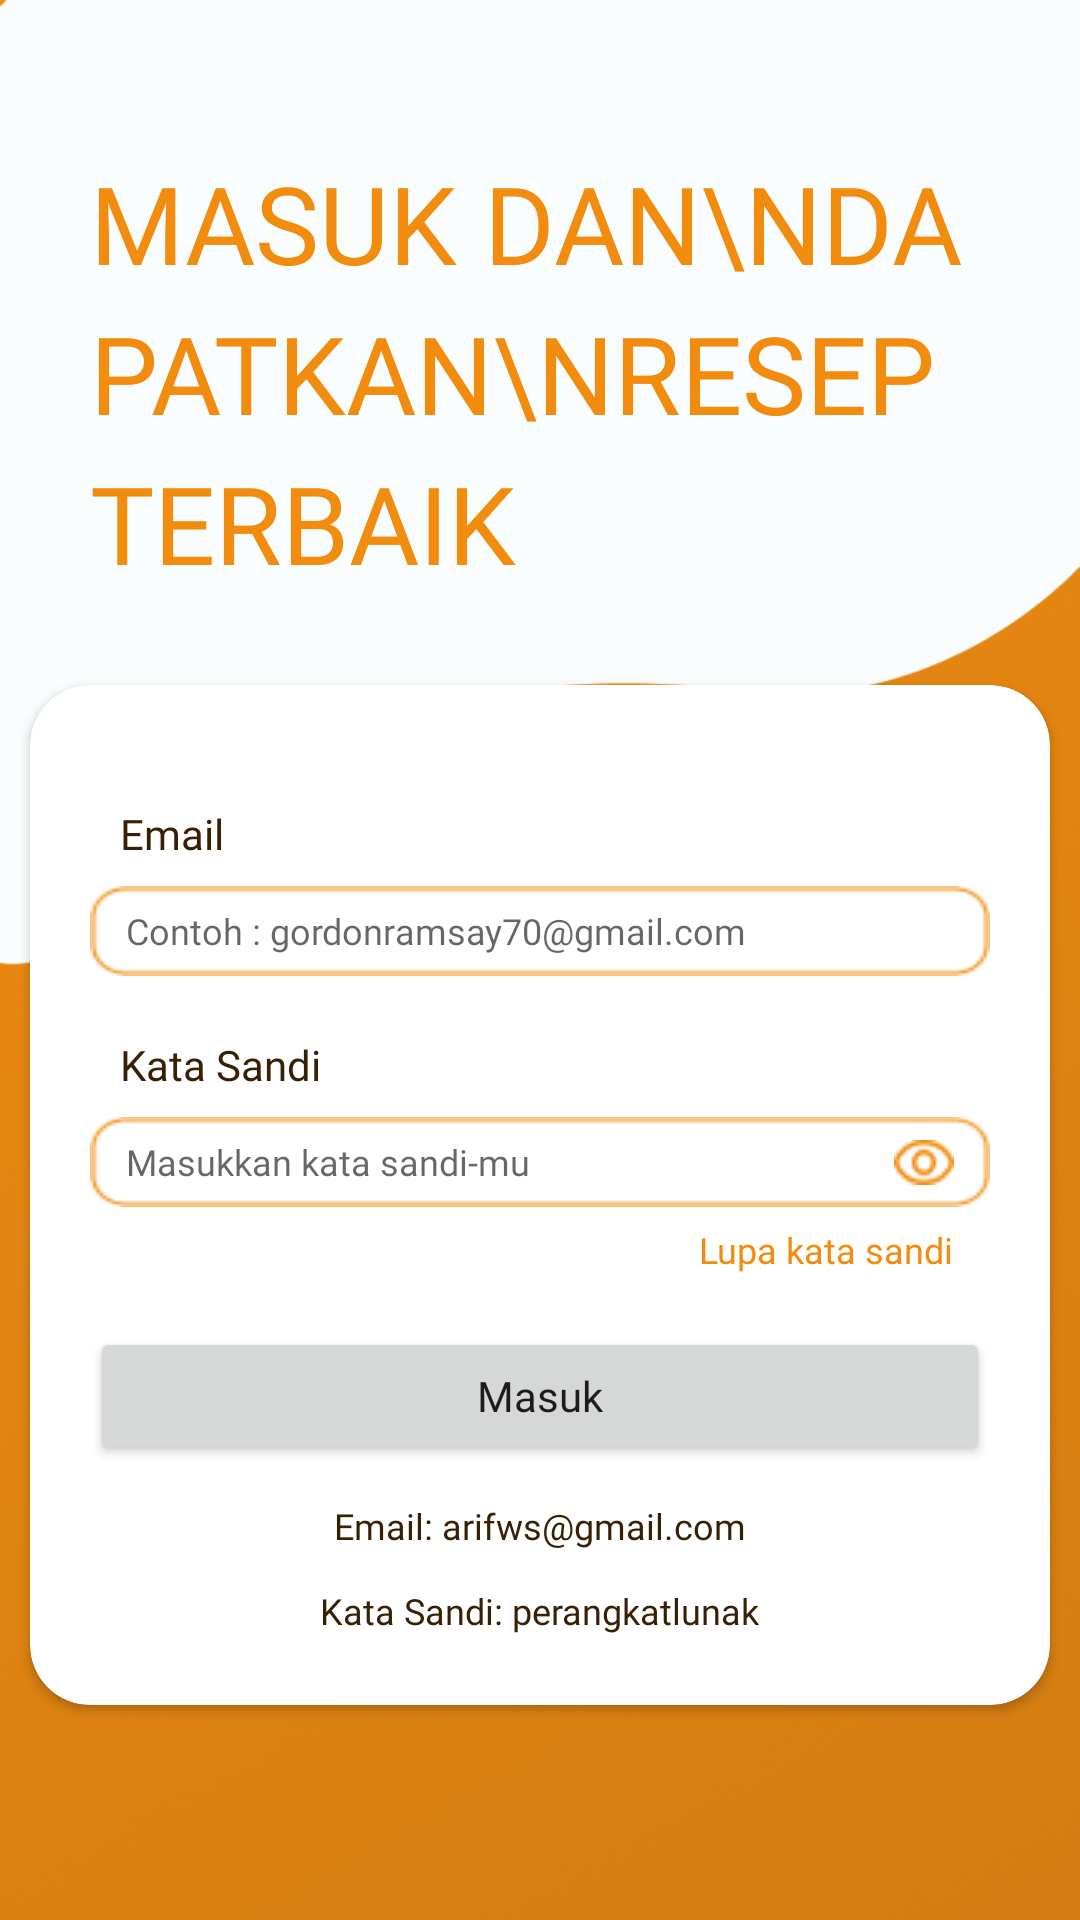

Screen size 1080px x 1920px. Icon name, then its box in pixels as rect(x1, y1, x2, y2):
seen: rect(894, 1140, 954, 1185)
